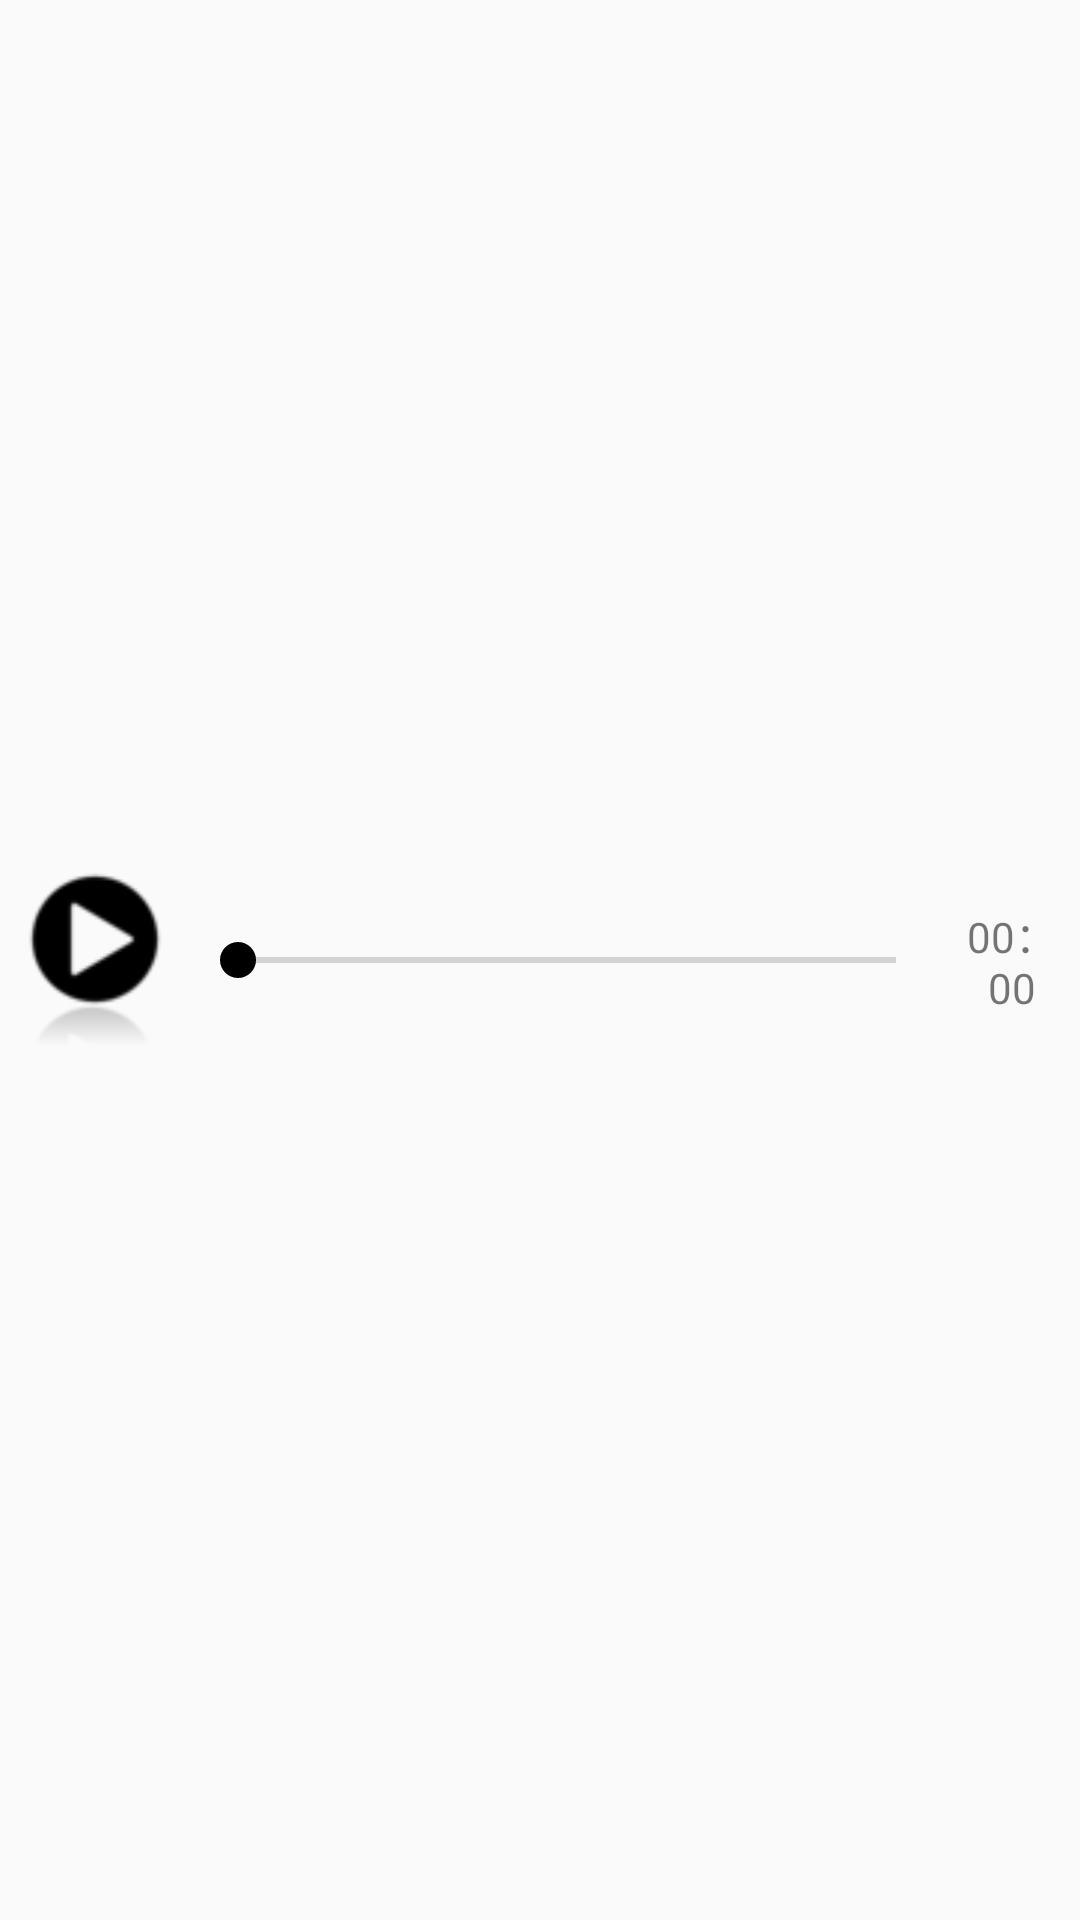

Icon bounding boxes for this 1080*1920 phone screenshot, format (x1, y1, x2, y2):
play: (30, 874, 160, 1028)
